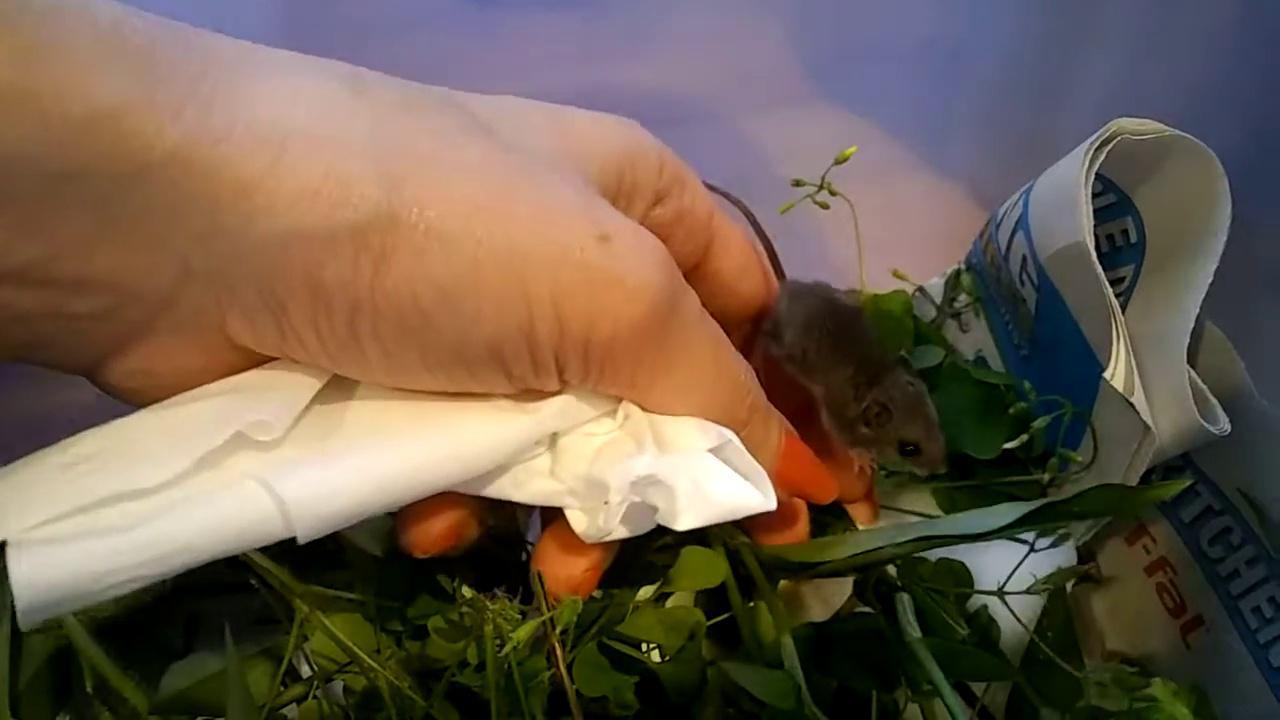rat: (702, 175, 951, 476)
